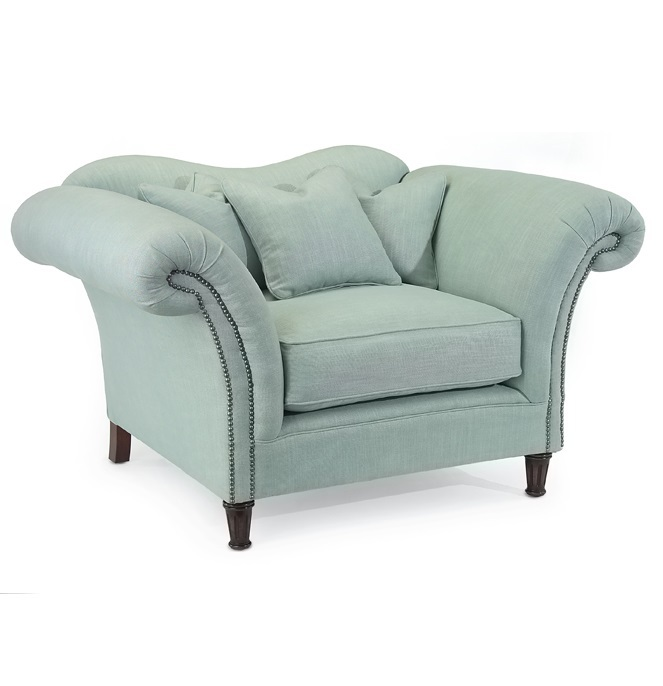chairs: (11, 144, 649, 555)
